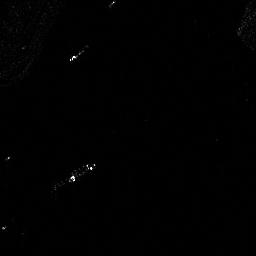ship: (68, 160, 96, 183)
